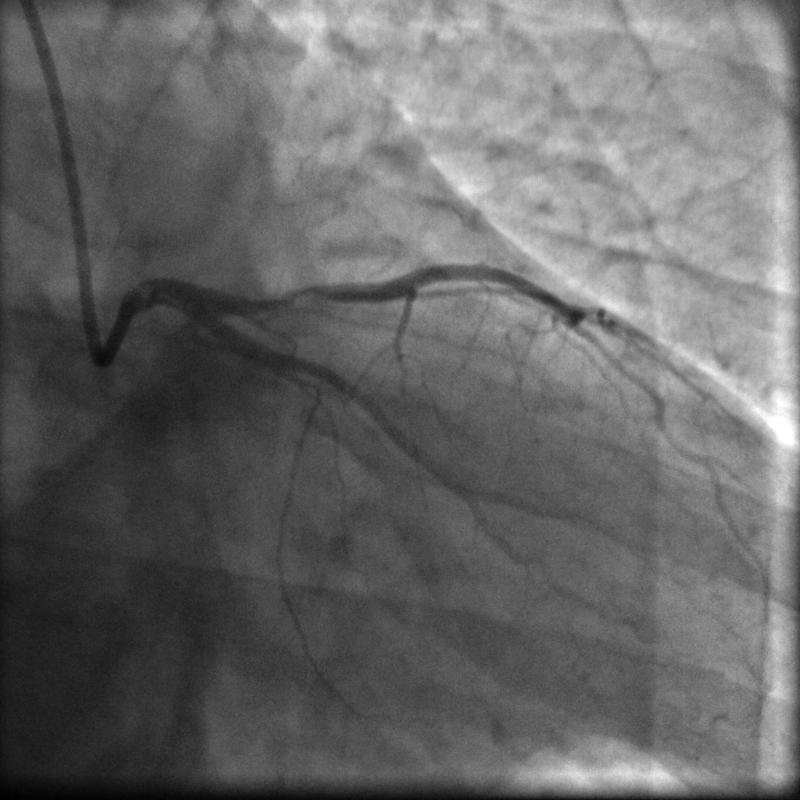Stenosis: (261, 280, 329, 305)
